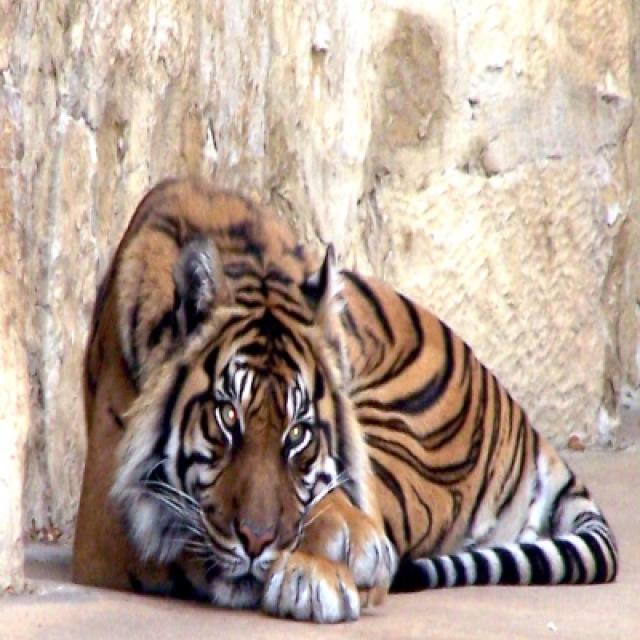Tiger: (74, 176, 621, 623)
